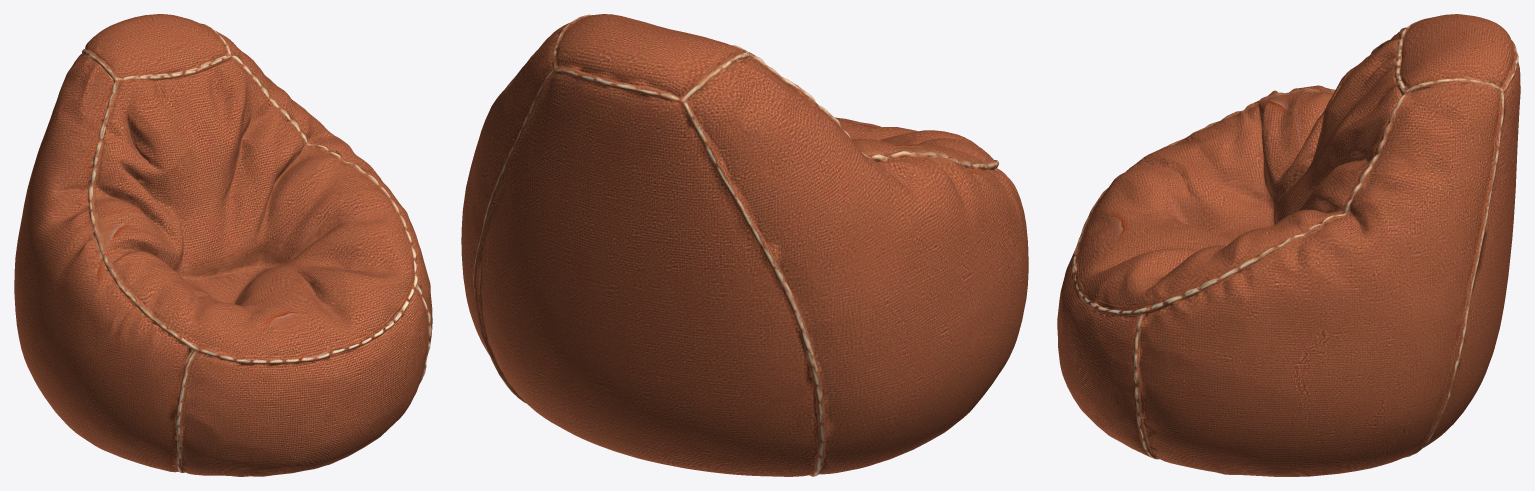
The model's file is beanbag.high.glb.
3 views of the same model, side by side, from view 1: azimuth 30°, elevation 25°; view 2: azimuth 150°, elevation 25°; view 3: azimuth 270°, elevation 25° (orthographic). The views are drawn at different scales.
Parts seen in each view (by area): view 1: tripo_node_8b5d36cf-8a70-4076-bdee-36c7931b2535; view 2: tripo_node_8b5d36cf-8a70-4076-bdee-36c7931b2535; view 3: tripo_node_8b5d36cf-8a70-4076-bdee-36c7931b2535.
Boxes of the visible parts, x1=… form: tripo_node_8b5d36cf-8a70-4076-bdee-36c7931b2535: x1=14, y1=14, x2=432, y2=476; tripo_node_8b5d36cf-8a70-4076-bdee-36c7931b2535: x1=461, y1=14, x2=1028, y2=476; tripo_node_8b5d36cf-8a70-4076-bdee-36c7931b2535: x1=1057, y1=14, x2=1520, y2=476.
Size of the model in its own units: 0.8999 by 0.8086 by 0.8992.
Materials: 1 (1 with a texture image).
